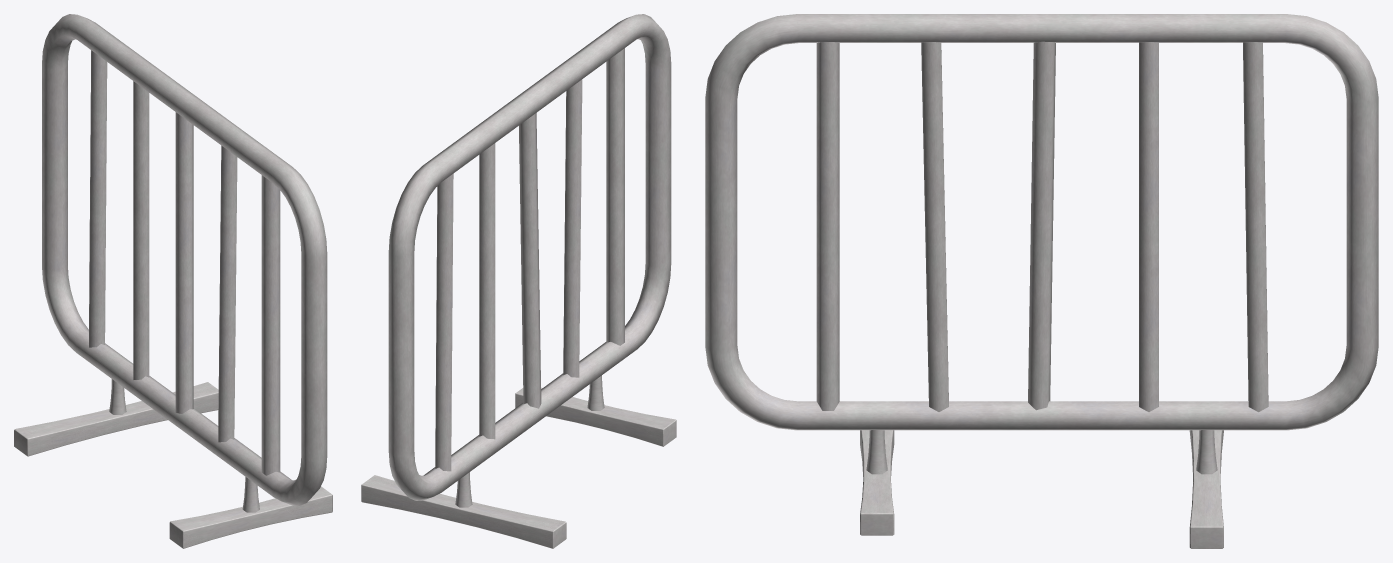
The model's file is Fence_SM.FBX.
The picture shows the model from 3 angles, left to right: view 1: azimuth 30°, elevation 25°; view 2: azimuth 150°, elevation 25°; view 3: azimuth 270°, elevation 25°; orthographic projection. The views are drawn at different scales.
Parts seen in each view (by area): view 1: FenceFrame_SM, FenceLegs_SM, FencePole_SM, FencePole_SM002, FencePole_SM003, FencePole_SM001, FencePole_SM004; view 2: FenceFrame_SM, FenceLegs_SM, FencePole_SM, FencePole_SM002, FencePole_SM003, FencePole_SM001, FencePole_SM004; view 3: FenceFrame_SM, FencePole_SM, FencePole_SM002, FencePole_SM001, FencePole_SM004, FencePole_SM003, FenceLegs_SM.
Part boxes in pixels (x1,y1,x2,y2): FenceFrame_SM: (42, 14, 327, 505); FenceLegs_SM: (14, 379, 332, 548); FencePole_SM: (261, 175, 280, 475); FencePole_SM002: (175, 112, 193, 413); FencePole_SM003: (133, 81, 149, 379); FencePole_SM001: (218, 145, 237, 442); FencePole_SM004: (89, 50, 107, 347); FenceFrame_SM: (388, 14, 671, 500); FenceLegs_SM: (361, 375, 676, 548); FencePole_SM: (606, 48, 624, 345); FencePole_SM002: (519, 113, 541, 408); FencePole_SM003: (479, 143, 495, 439); FencePole_SM001: (563, 79, 582, 377); FencePole_SM004: (435, 173, 453, 471); FenceFrame_SM: (705, 14, 1378, 430); FencePole_SM: (816, 42, 839, 410); FencePole_SM002: (1028, 41, 1055, 410); FencePole_SM001: (921, 42, 948, 411); FencePole_SM004: (1243, 42, 1268, 412); FencePole_SM003: (1139, 42, 1158, 411); FenceLegs_SM: (860, 430, 1223, 548).
Bounding box in the file's own units: 65 × 123 × 157.
1 material, 1 textured.
